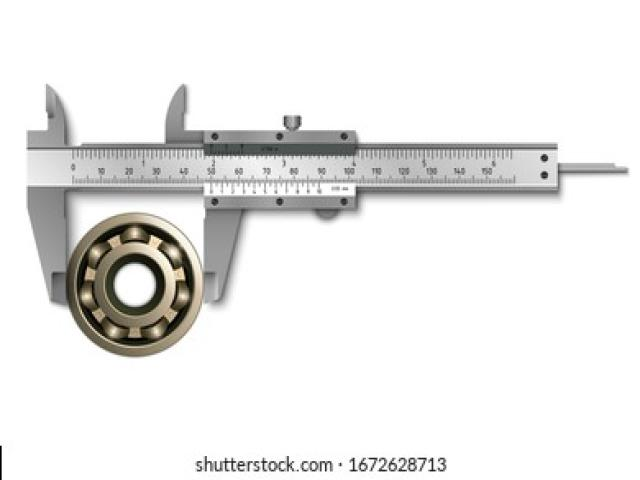Calipers: (26, 85, 625, 306)
